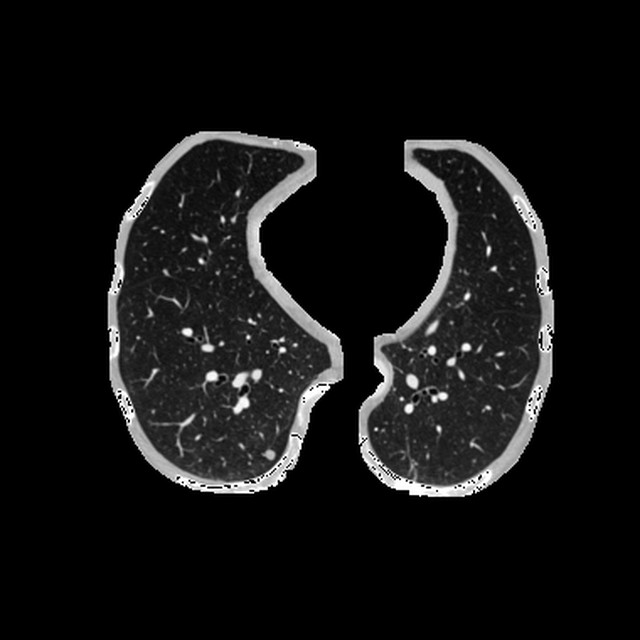PN: (264, 450, 275, 460)
